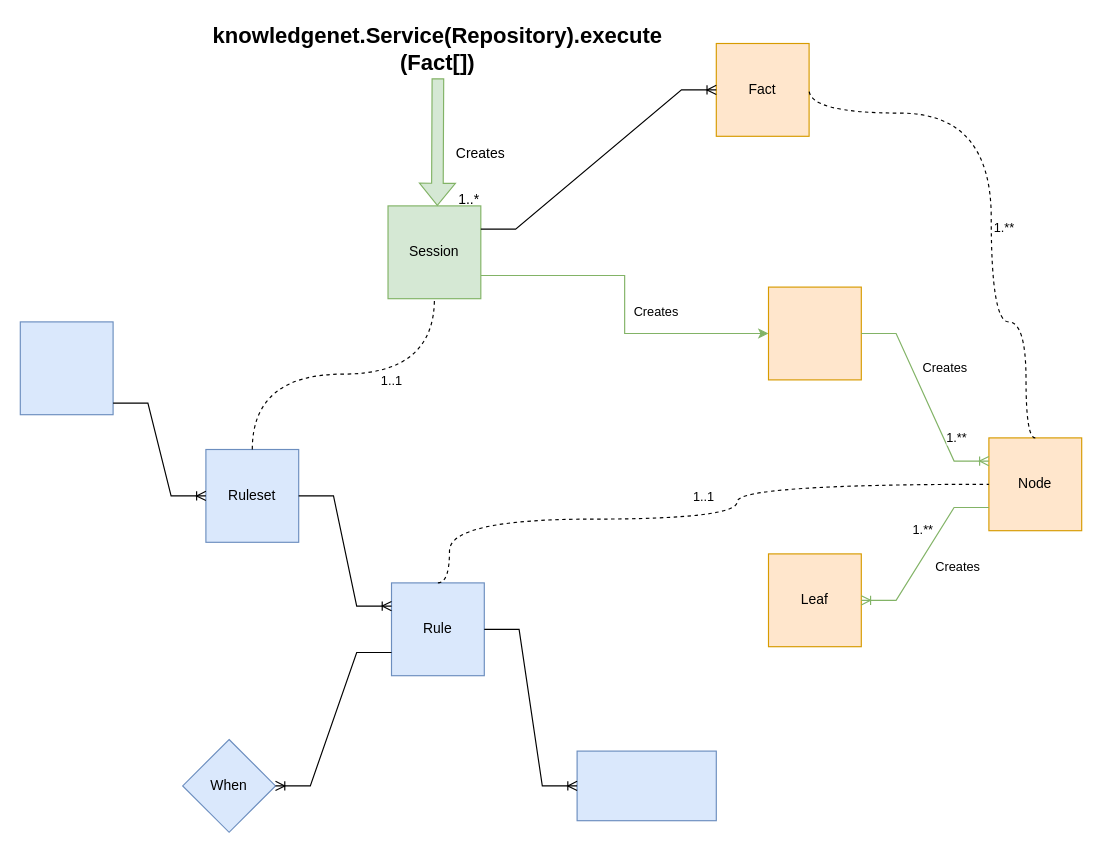
Some shapes in this 1102 by 853 pixel diagram are drawn without their labels. Here are the shapes that lost their labels. From the top down, the centre of each, then its label:
At (x=814, y=333): "Graph".
At (x=66, y=368): "Repository".
At (x=646, y=785): "Then".
